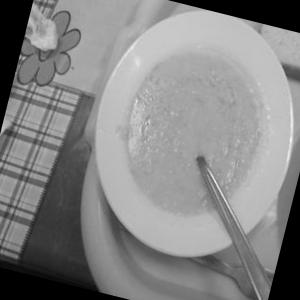porridge: (96, 20, 294, 248)
